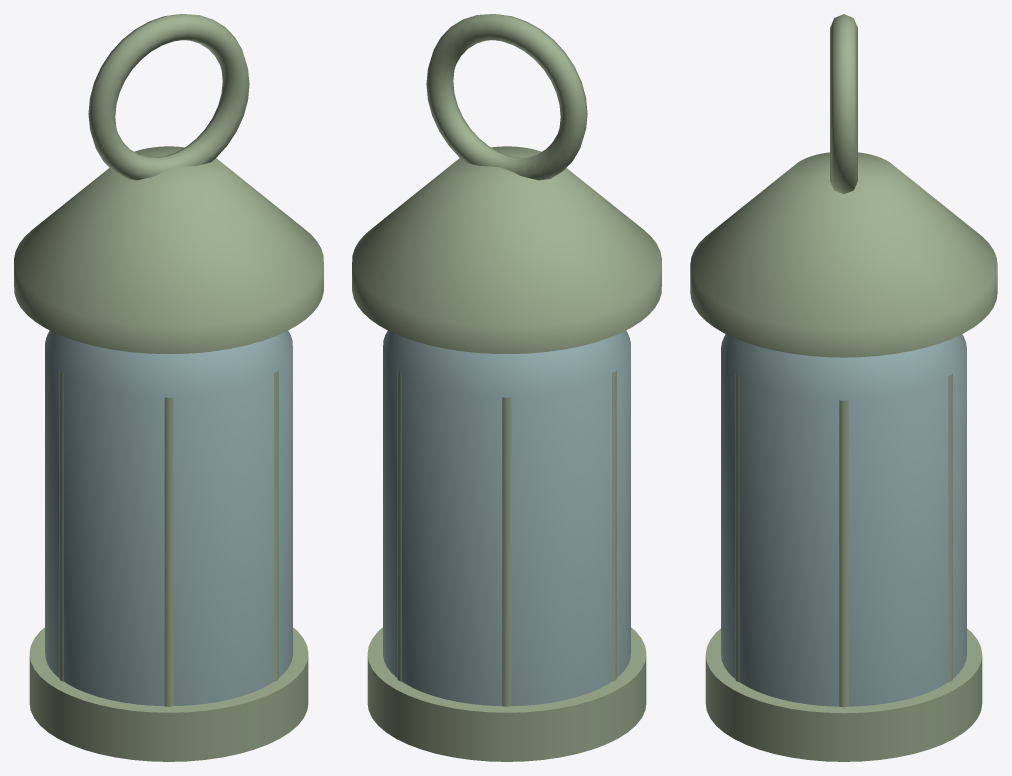
Rendered from desert-caravanserai-and-bazaar-oil-lantern-3e058c06__30485.glb.
3 views of the same model, side by side, from view 1: azimuth 30°, elevation 25°; view 2: azimuth 150°, elevation 25°; view 3: azimuth 270°, elevation 25° (orthographic).
Visible parts, largest first — view 1: oil-lantern; view 2: oil-lantern; view 3: oil-lantern.
Boxes of the visible parts, x1,y1,x2,y2 form: oil-lantern: (14, 14, 323, 761); oil-lantern: (352, 14, 661, 761); oil-lantern: (690, 14, 997, 761).
Size of the model in its own units: 0.2 by 0.489 by 0.2.
